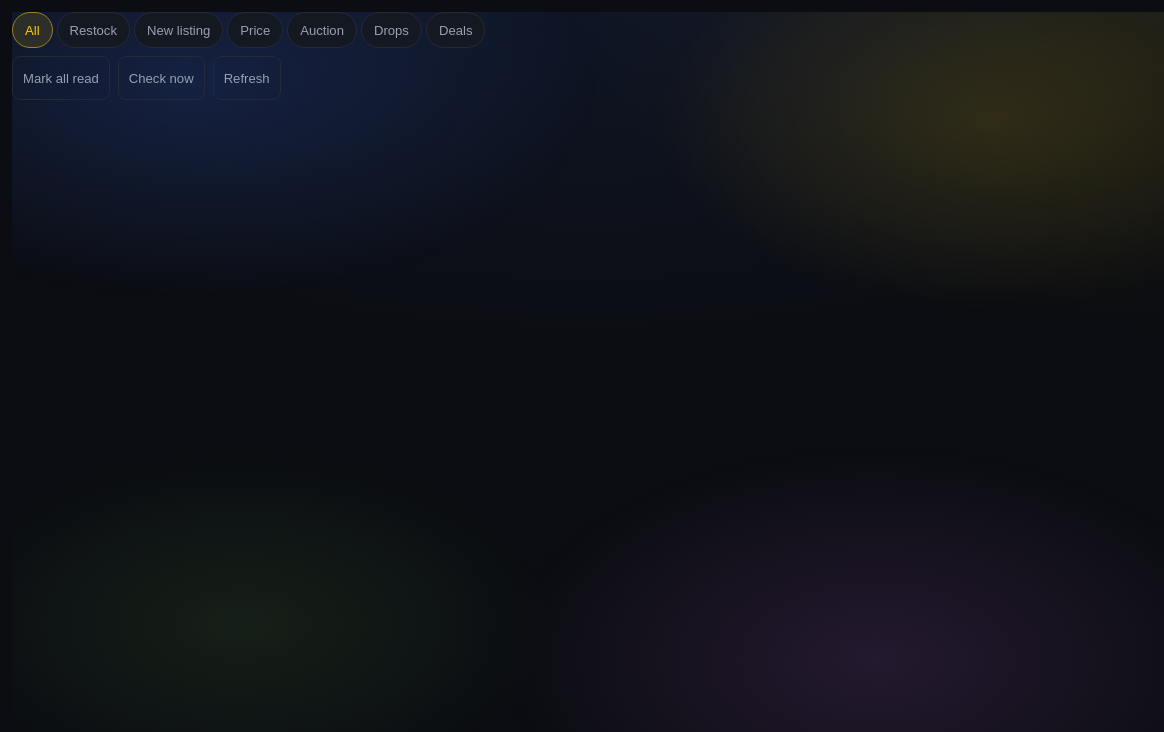
Test case: AlertsFeed › renders all events, then filters to restock only when the Restock chip is tapped
The width and height of the screenshot is (1164, 732).
Click the tab with class "alert-chip" showing "Restock": click(93, 30) [57,12,130,48]
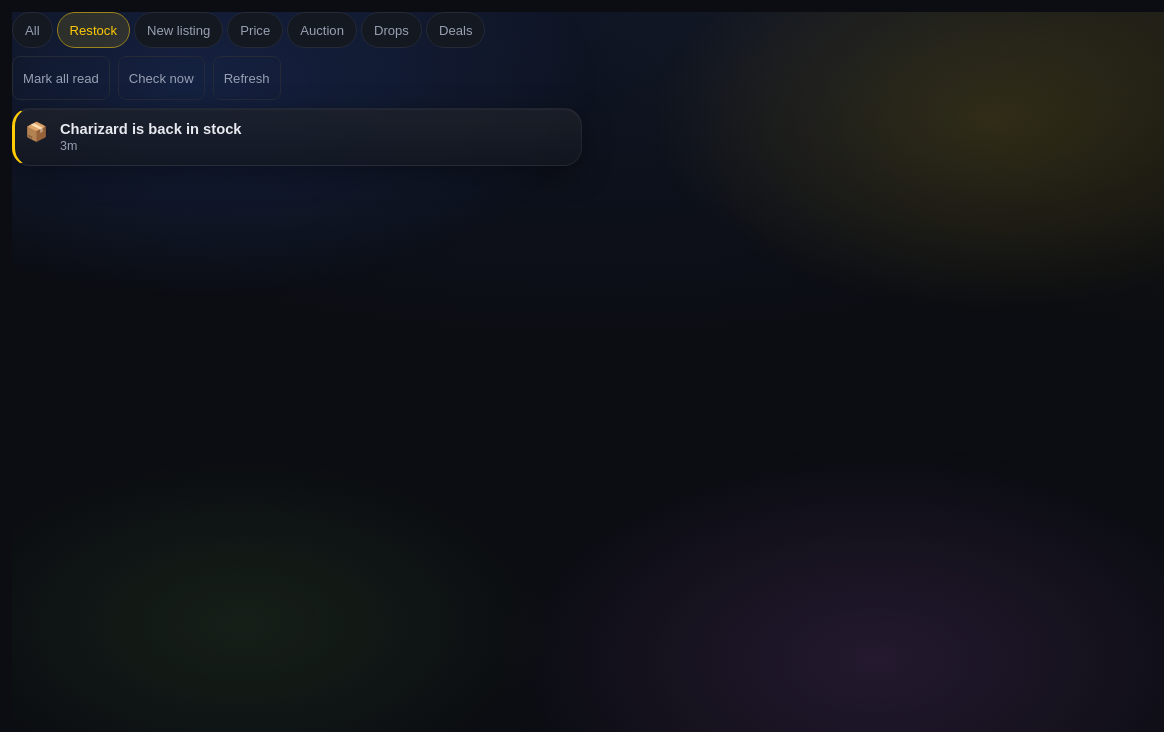
Check: the text "Charizard is back in stock" is shown, box [60,121,242,137]
